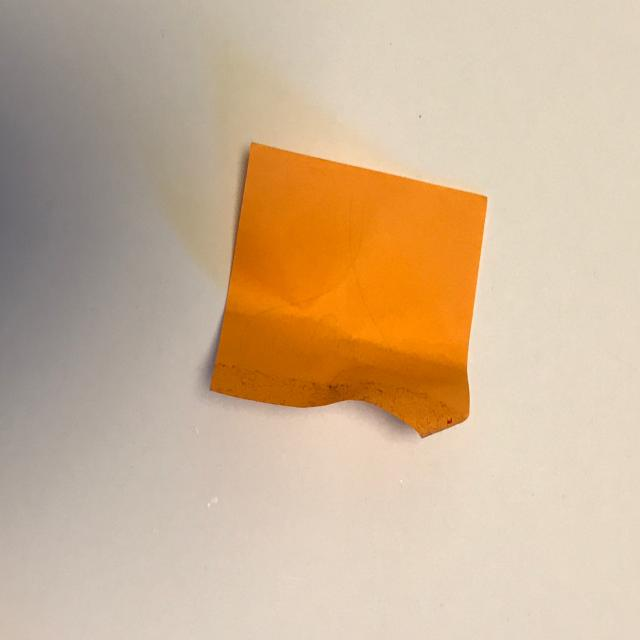paper: (209, 140, 488, 439)
